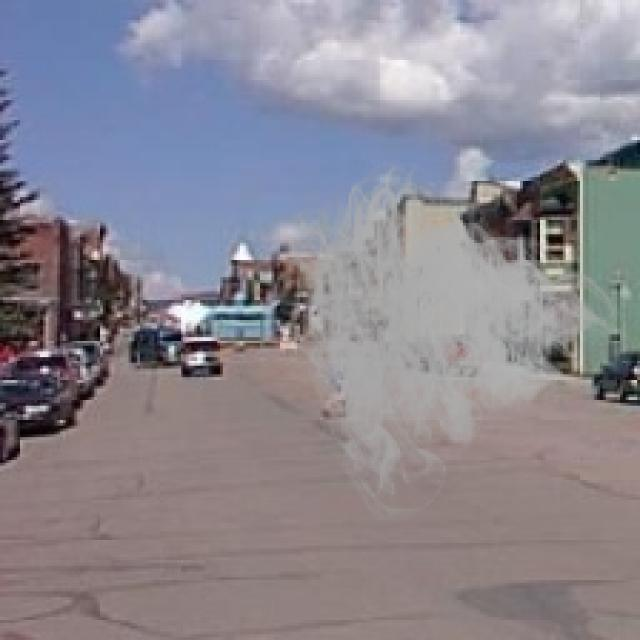Smoke: (268, 152, 626, 528)
